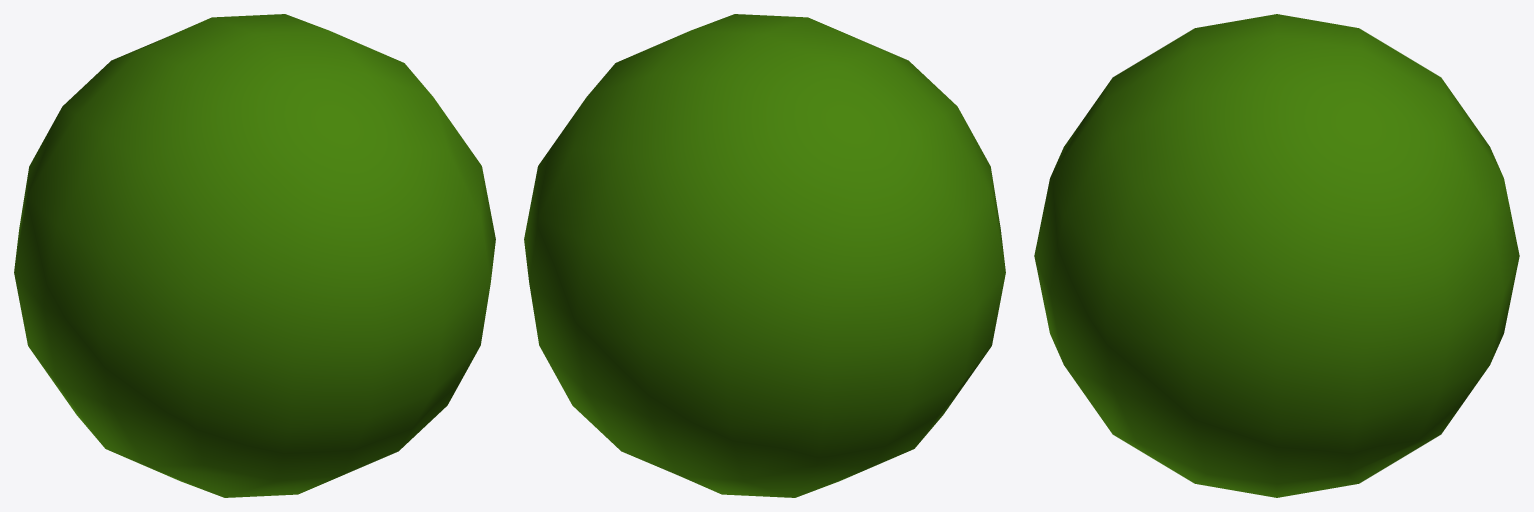
File: 11watermelon.glb
The picture shows the model from 3 angles, left to right: view 1: azimuth 30°, elevation 25°; view 2: azimuth 150°, elevation 25°; view 3: azimuth 270°, elevation 25°; orthographic projection.
Parts seen in each view (by area): view 1: 11-watermelon; view 2: 11-watermelon; view 3: 11-watermelon.
Part boxes in pixels (x1=…): 11-watermelon: x1=14, y1=14, x2=495, y2=497; 11-watermelon: x1=524, y1=14, x2=1005, y2=497; 11-watermelon: x1=1034, y1=14, x2=1519, y2=497.
Size of the model in its own units: 14.67 by 14.67 by 14.67.
